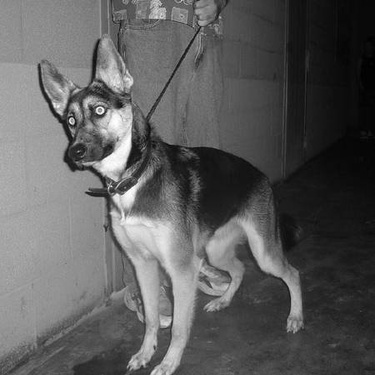dog: (23, 21, 317, 372)
